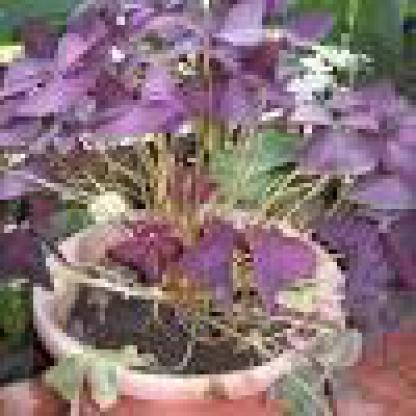Kupu-Kupu: (39, 14, 272, 118), (313, 105, 405, 213), (192, 218, 313, 297)
